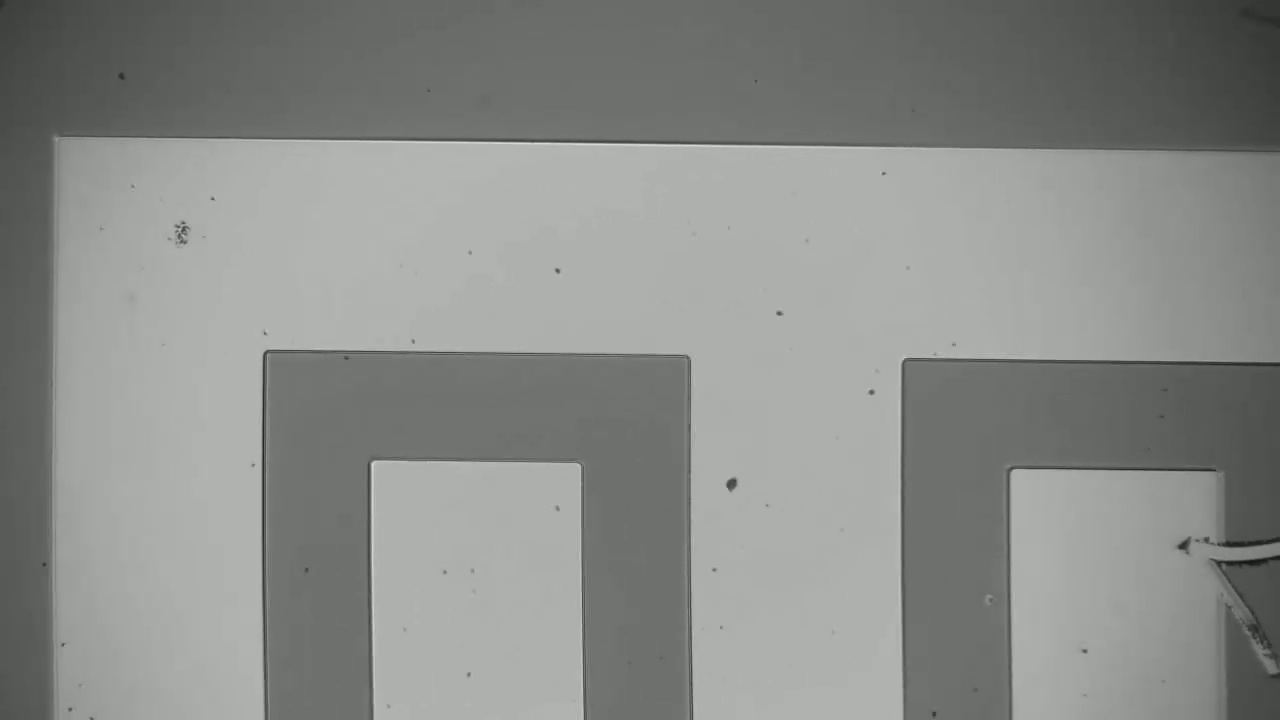Short_circuit: (1168, 506, 1279, 597)
